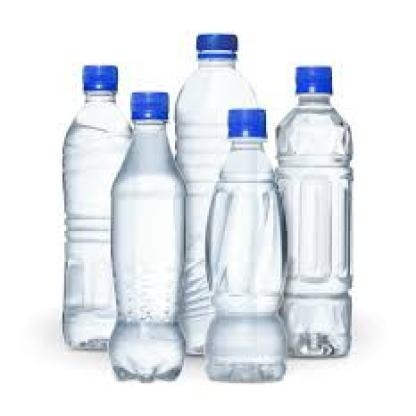trash: (175, 34, 255, 354), (276, 66, 352, 356), (205, 108, 285, 381), (110, 92, 182, 381), (63, 65, 131, 349)
